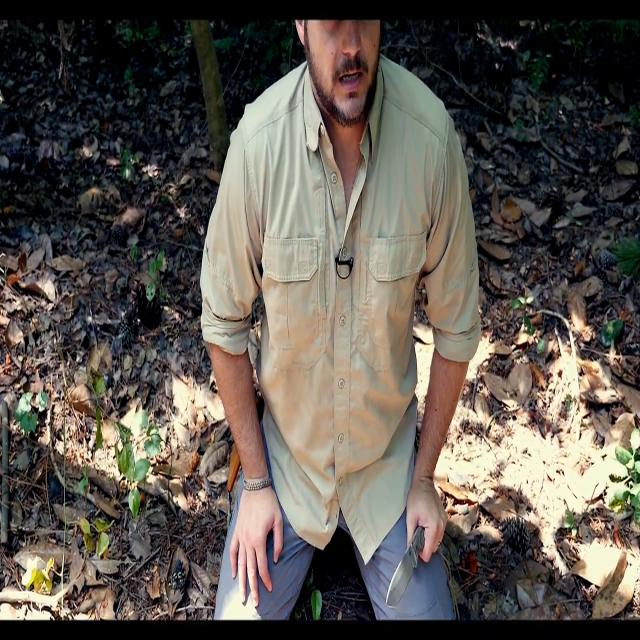knife: (386, 525, 430, 615)
